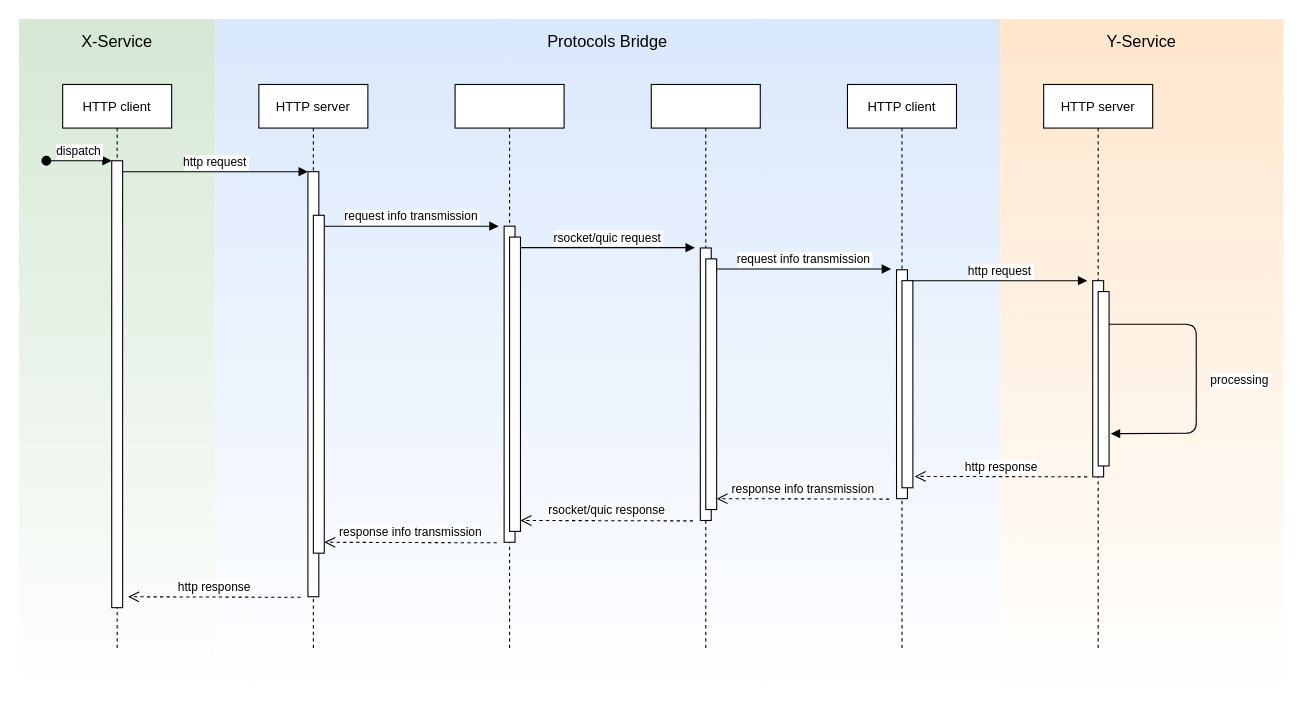
The diagram is 1301 pixels wide and 713 high, and some of its shapes have lost their labels. The box of each missing label's shape, as (x1, y1, x2, y2) in pixels:
RSocket/QUIC client: (454, 83, 564, 651)
RSocket/QUIC server: (650, 83, 760, 651)
